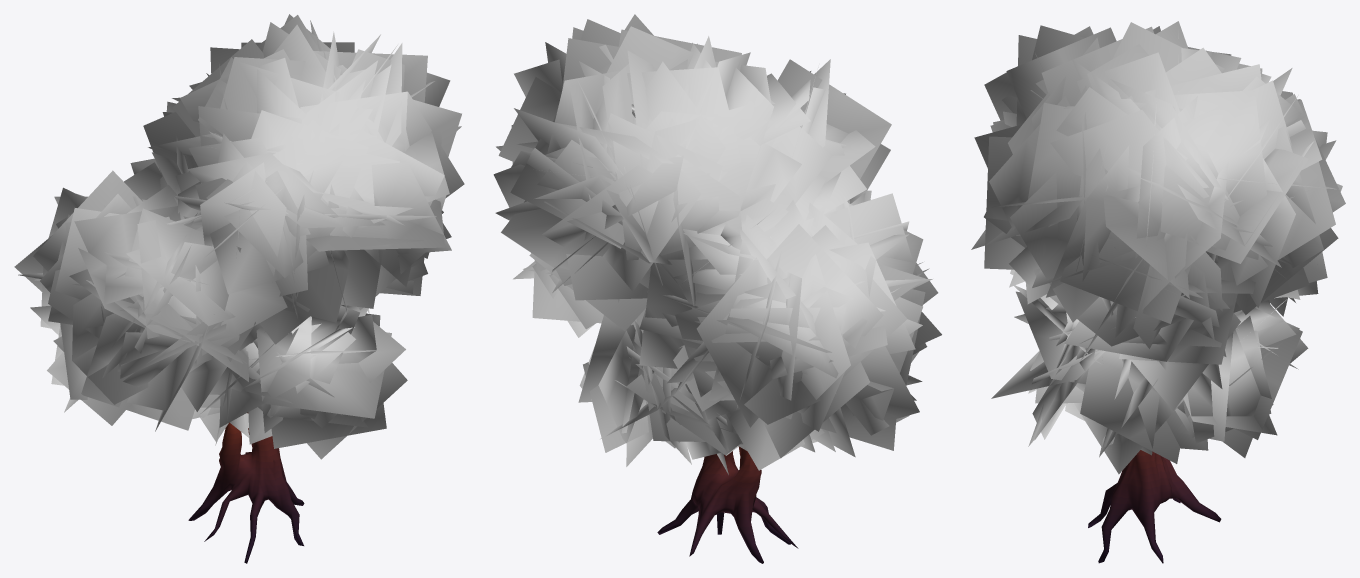
Rendered from simple_tree_5.fbx.
The picture shows the model from 3 angles, left to right: view 1: azimuth 30°, elevation 25°; view 2: azimuth 150°, elevation 25°; view 3: azimuth 270°, elevation 25°; orthographic projection. The views are drawn at different scales.
Visible parts, largest first — view 1: 5 canopy_cards_LOD0, 5 trunk; view 2: 5 canopy_cards_LOD0, 5 trunk; view 3: 5 canopy_cards_LOD0, 5 trunk.
Boxes of the visible parts, bbox=[...] form: 5 canopy_cards_LOD0: bbox=[14, 14, 464, 459]; 5 trunk: bbox=[188, 412, 304, 563]; 5 canopy_cards_LOD0: bbox=[493, 14, 941, 474]; 5 trunk: bbox=[657, 446, 798, 563]; 5 canopy_cards_LOD0: bbox=[971, 21, 1345, 474]; 5 trunk: bbox=[1088, 450, 1221, 563].
Size of what is drawn, in the model's own units: 1887 by 2210 by 1386.
